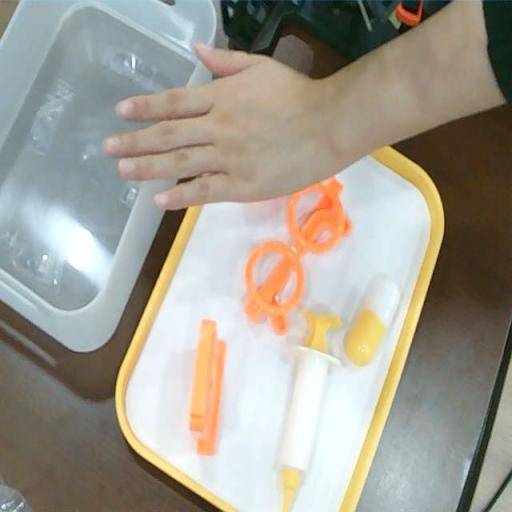hospital: (104, 40, 359, 202)
